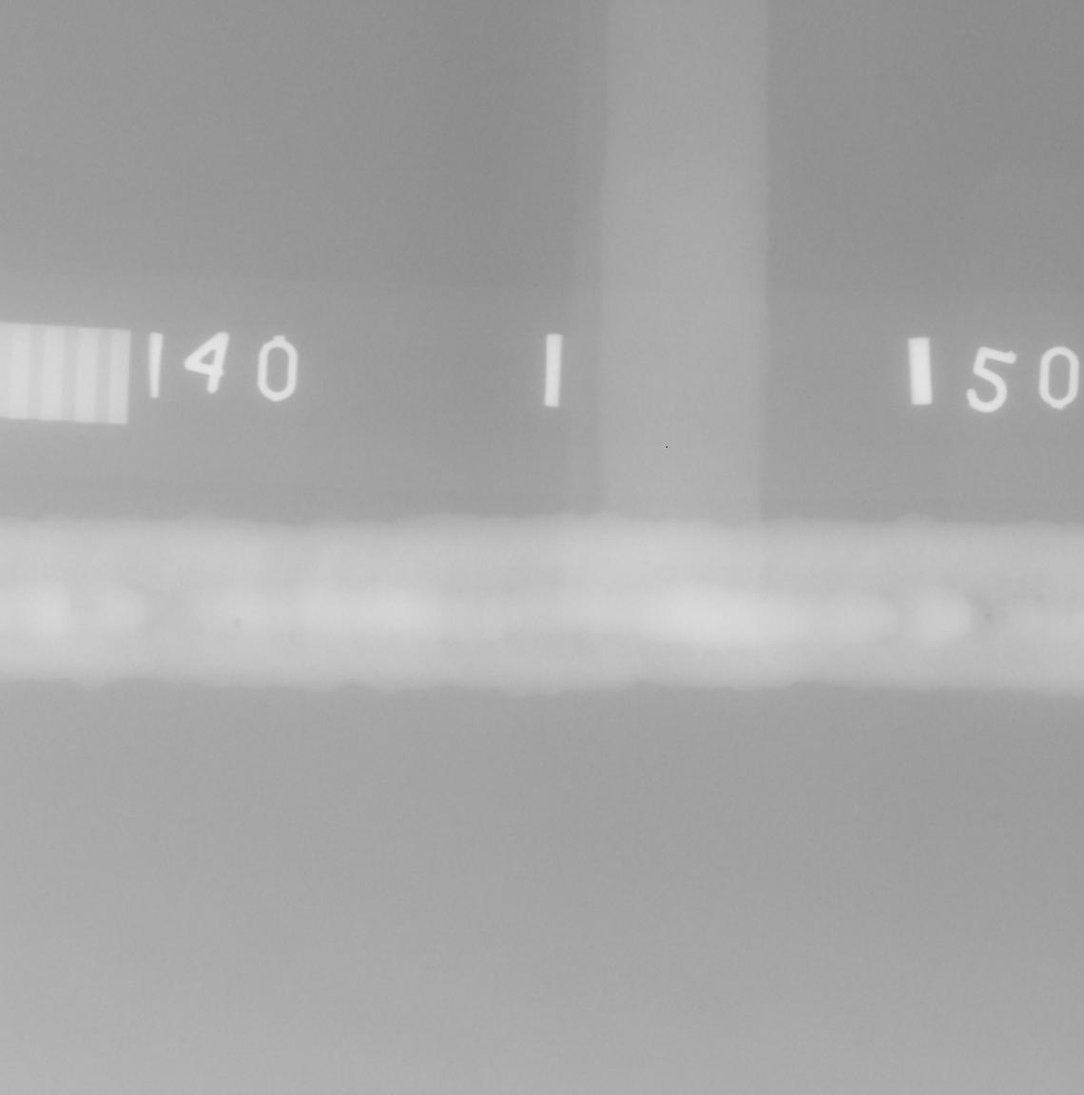Inclusion: (11, 521, 18, 529), (1038, 595, 1044, 600)
Incomplete Root Penetration: (71, 607, 91, 609), (984, 615, 992, 617)
Pore/Porosity: (232, 618, 241, 629), (517, 676, 522, 684), (644, 561, 649, 565), (989, 618, 992, 622)
